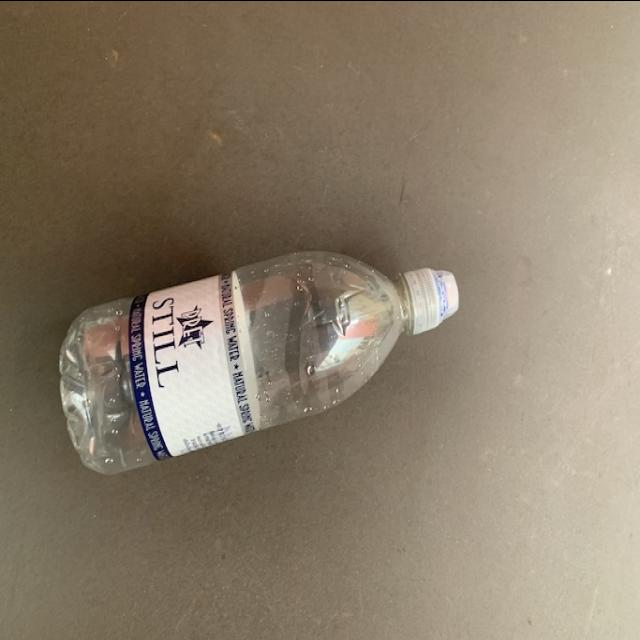litter: (59, 248, 464, 478)
